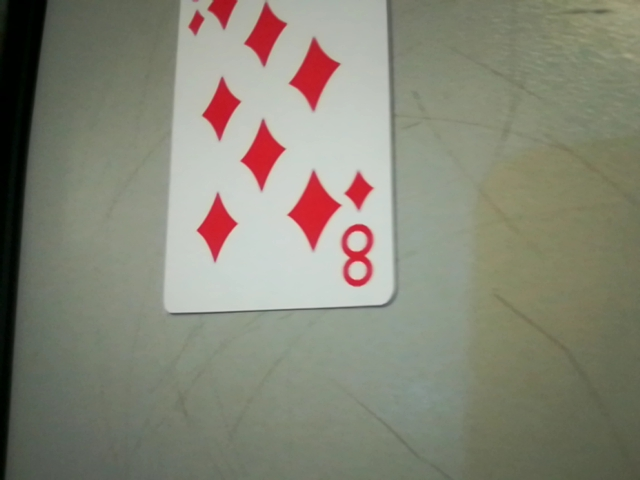fk 8: (332, 167, 391, 298)
